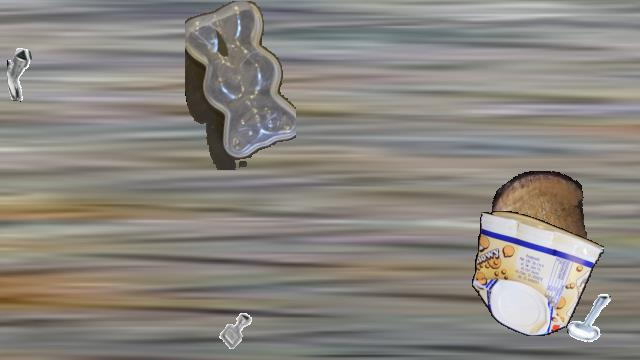metal: (7, 46, 63, 102), (566, 293, 618, 345), (211, 305, 261, 355)
plastic: (185, 1, 295, 169), (472, 211, 604, 335)
wood: (492, 171, 586, 275)
